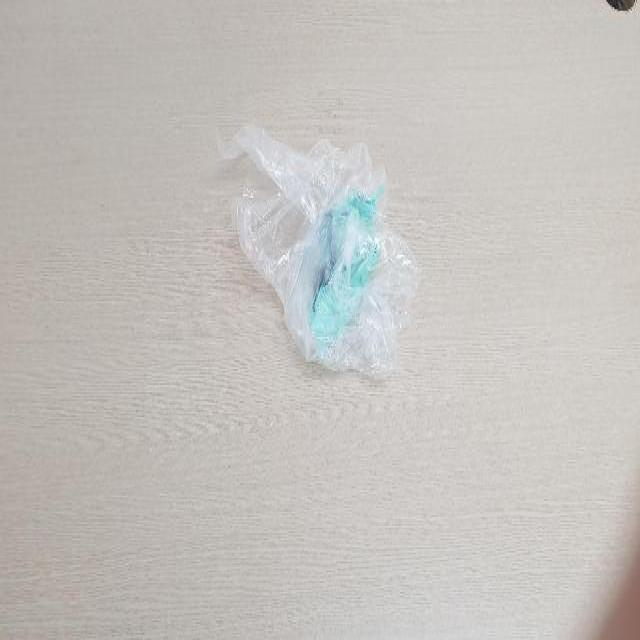plastic bag: (210, 120, 422, 388)
